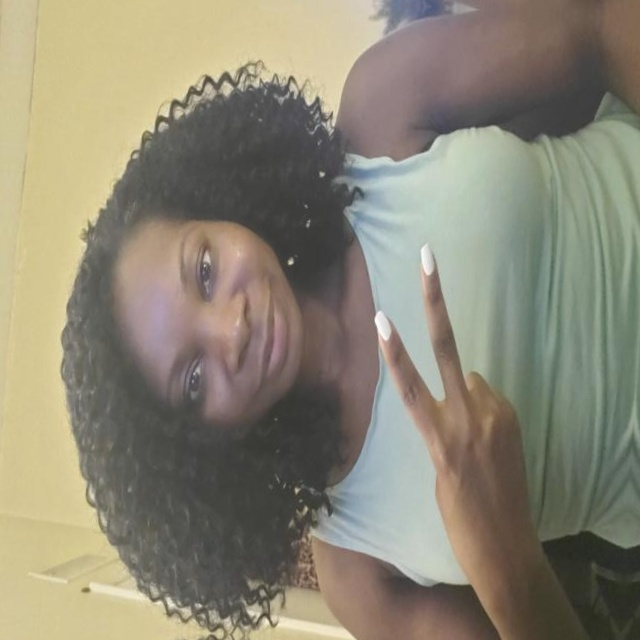Scissors: (357, 240, 550, 565)
